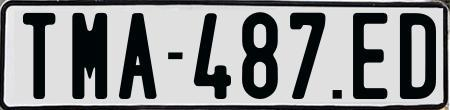4: (193, 13, 236, 100)
7: (288, 11, 329, 102)
8: (242, 12, 279, 105)
A: (117, 13, 156, 103)
D: (397, 12, 430, 101)
E: (350, 10, 384, 96)
M: (70, 11, 106, 98)
T: (21, 10, 55, 101)
